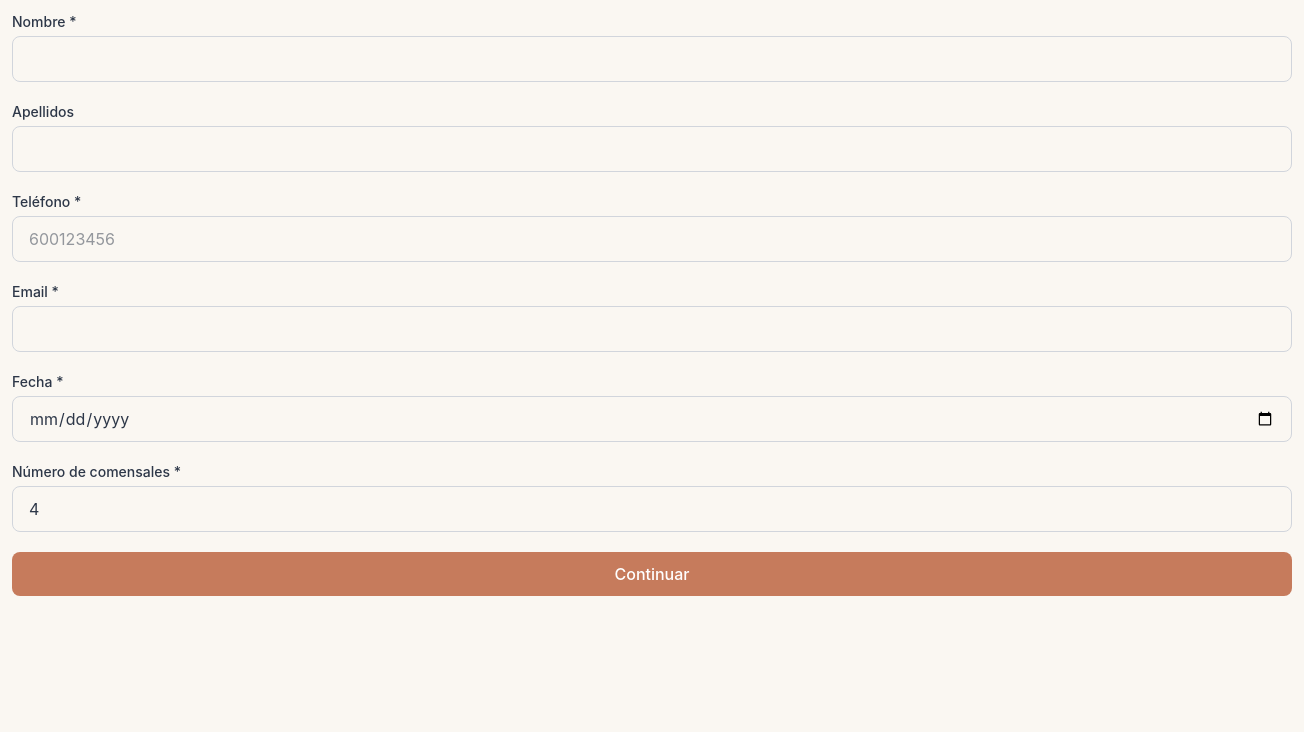
it: ReservationForm (RF-001 + SLA slots) › shows error when nombre is too short (< 2 chars)
Type "A" into the field with id "nombre" at [652, 59], box [12,36,1292,82]
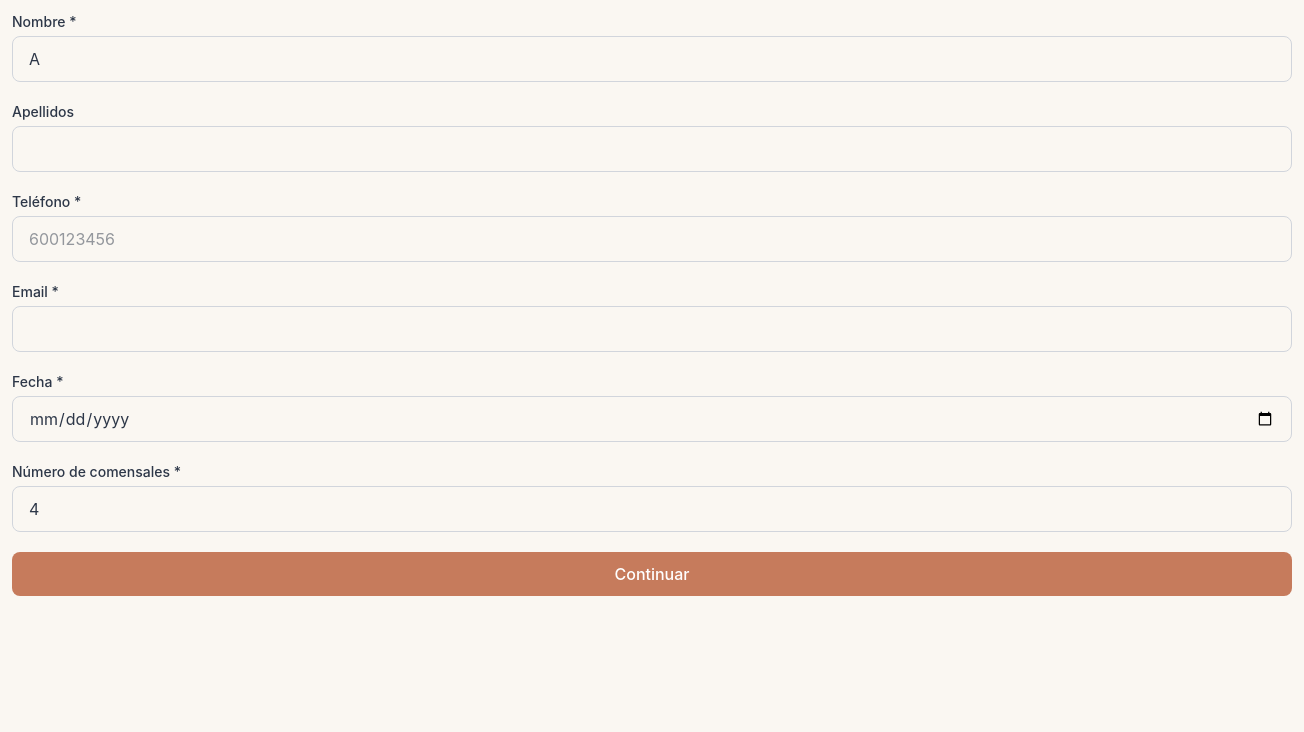
Submit the form
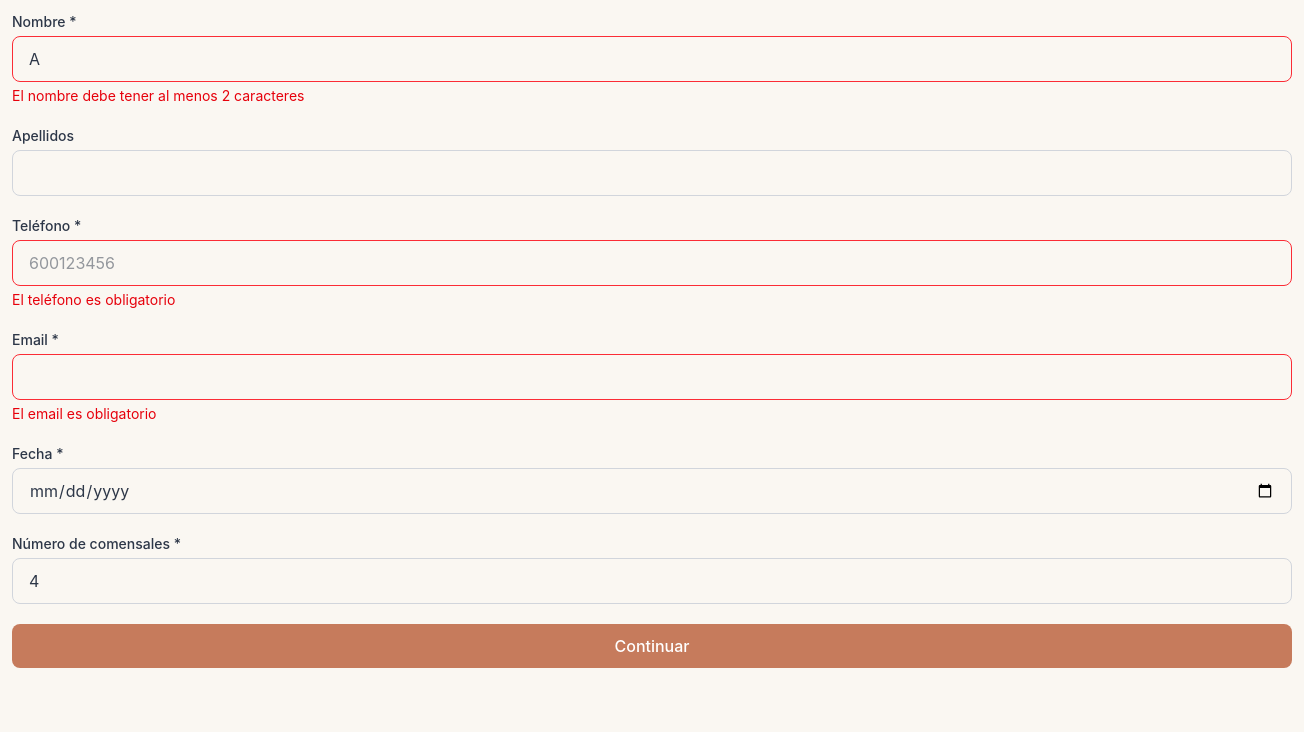
Now the form shows "El nombre debe tener al menos 2 caracteres", box [12,87,304,104]
